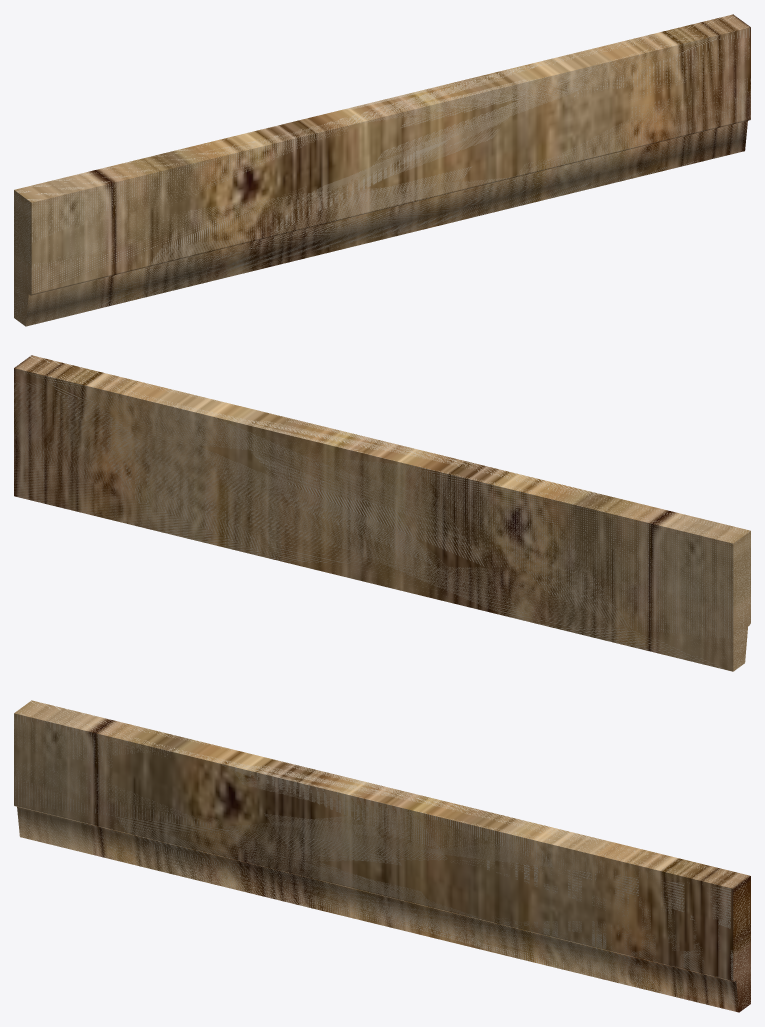
File: original-24.obj
3 renders of one model, top to bottom at view 1: azimuth 30°, elevation 25°; view 2: azimuth 150°, elevation 25°; view 3: azimuth 330°, elevation 25°, orthographic.
Parts seen in each view (by area): view 1: TB_11_B1/TB_11_B/mesh15/mesh15-geometry#mesh15-geometry; view 2: TB_11_B1/TB_11_B/mesh15/mesh15-geometry#mesh15-geometry; view 3: TB_11_B1/TB_11_B/mesh15/mesh15-geometry#mesh15-geometry.
Boxes of the visible parts, x1=… form: TB_11_B1/TB_11_B/mesh15/mesh15-geometry#mesh15-geometry: x1=14, y1=14, x2=750, y2=326; TB_11_B1/TB_11_B/mesh15/mesh15-geometry#mesh15-geometry: x1=14, y1=355, x2=750, y2=671; TB_11_B1/TB_11_B/mesh15/mesh15-geometry#mesh15-geometry: x1=14, y1=700, x2=750, y2=1012.
Size of the model in its own units: 1.23 by 0.21 by 0.0525.
